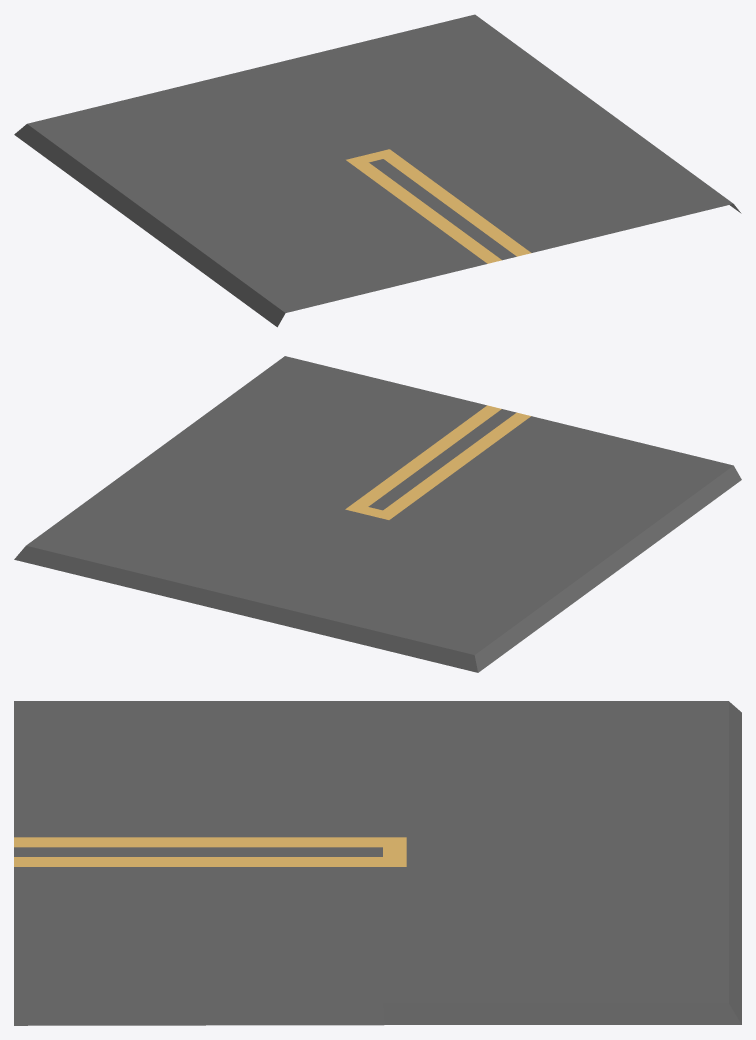
File: Calle_Fin.fbx
3 views of the same model, one above another, from view 1: azimuth 30°, elevation 25°; view 2: azimuth 150°, elevation 25°; view 3: azimuth 270°, elevation 25° (orthographic). The views are drawn at different scales.
Visible parts, largest first — view 1: Calle_Final; view 2: Calle_Final; view 3: Calle_Final.
Boxes of the visible parts, x1,y1,x2,y2 form: Calle_Final: (14, 14, 741, 327); Calle_Final: (14, 356, 741, 672); Calle_Final: (14, 701, 741, 1025).
Bounding box in the file's own units: 311 × 7.9 × 306.
